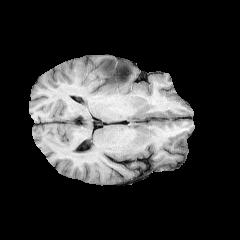glioma: (100, 58, 133, 89)
